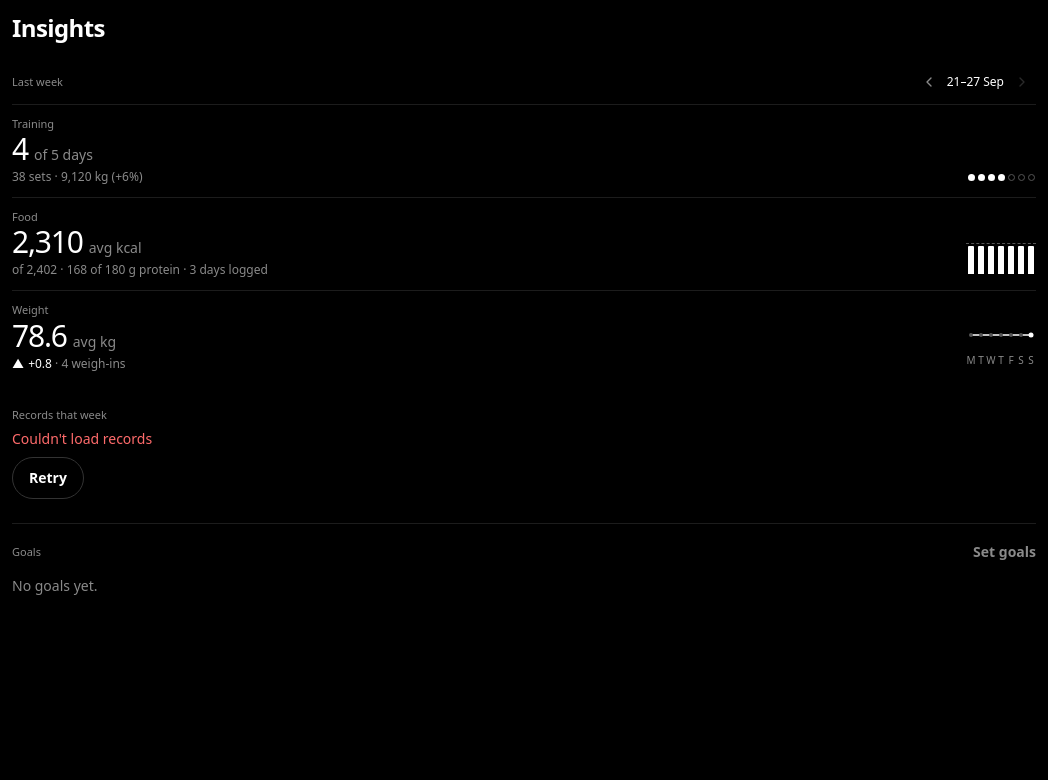
it: Insights: records › shows the records' failure once, with Retry, and hides this week's block
Expected: the text "Couldn't load records" is shown, [12,429,152,448]
Expected: the text "This week so far" is not shown
Click the button "Retry".
click(48, 478)  # box [12,457,84,499]
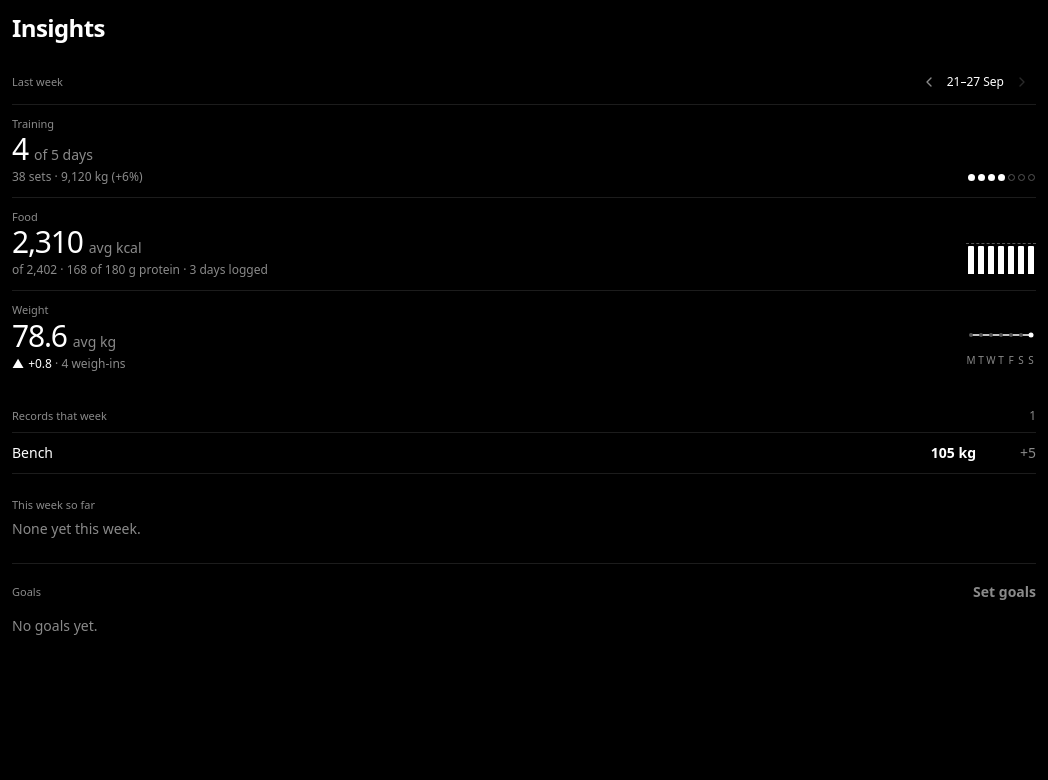
Result: the list named "Records that week" shows "Bench" at [12,443,53,462]
